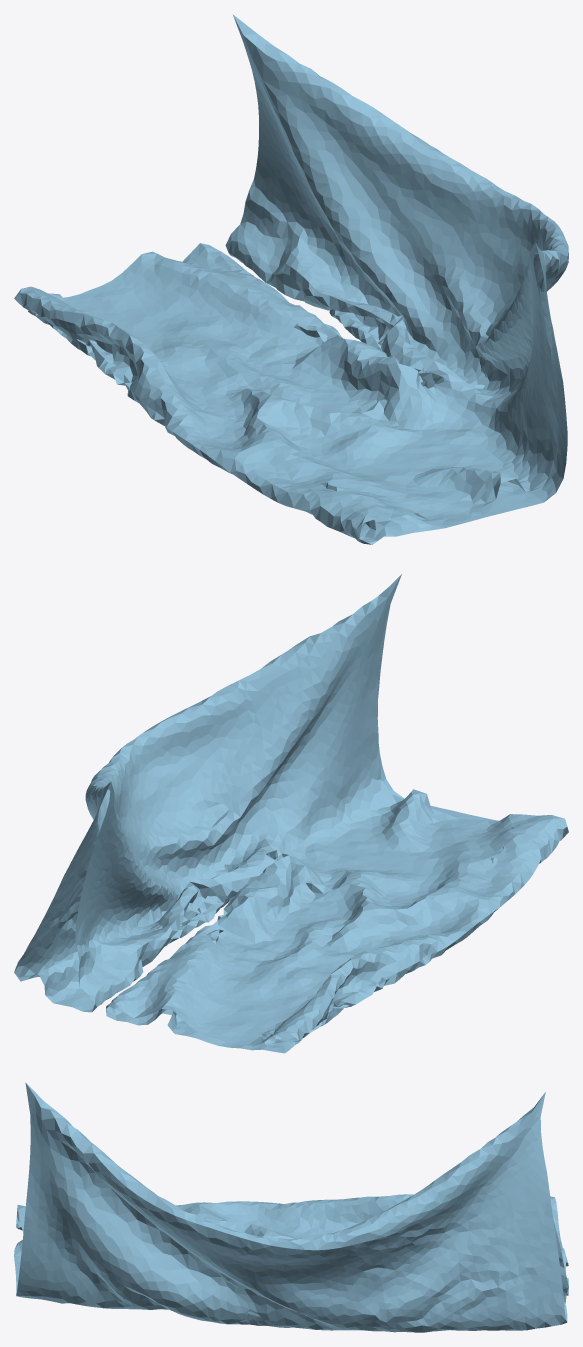
Rendered from frame_11.glb.
3 renders of one model, top to bottom at view 1: azimuth 30°, elevation 25°; view 2: azimuth 150°, elevation 25°; view 3: azimuth 270°, elevation 25°, orthographic. The views are drawn at different scales.
Parts seen in each view (by area): view 1: frame_11.obj; view 2: frame_11.obj; view 3: frame_11.obj.
Boxes of the visible parts, bbox=[...] form: frame_11.obj: bbox=[14, 14, 568, 544]; frame_11.obj: bbox=[14, 574, 568, 1053]; frame_11.obj: bbox=[14, 1082, 568, 1332].
Bounding box in the file's own units: 1.02 × 0.6954 × 1.6.
